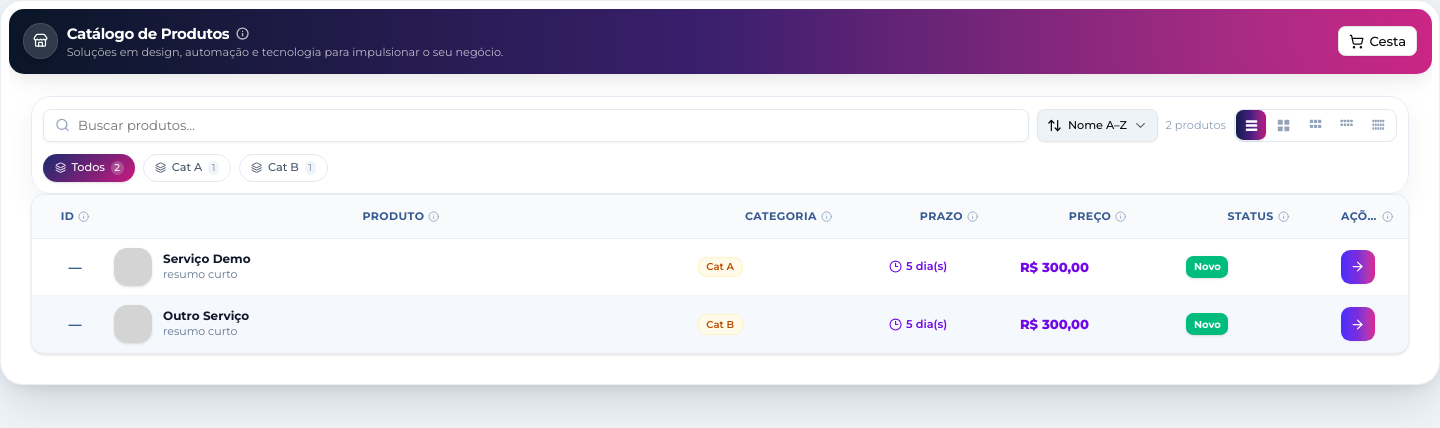
Test: Catálogo do cliente › filtros: pilar do endereço vai ao backend; abas de categoria filtram a lista e 'Todos' volta tudo
Check: the text "Serviço Demo" is shown, box [163, 251, 251, 266]
Step 1. Click the button "Cat B 1" → (283, 168), box [239, 154, 328, 182]
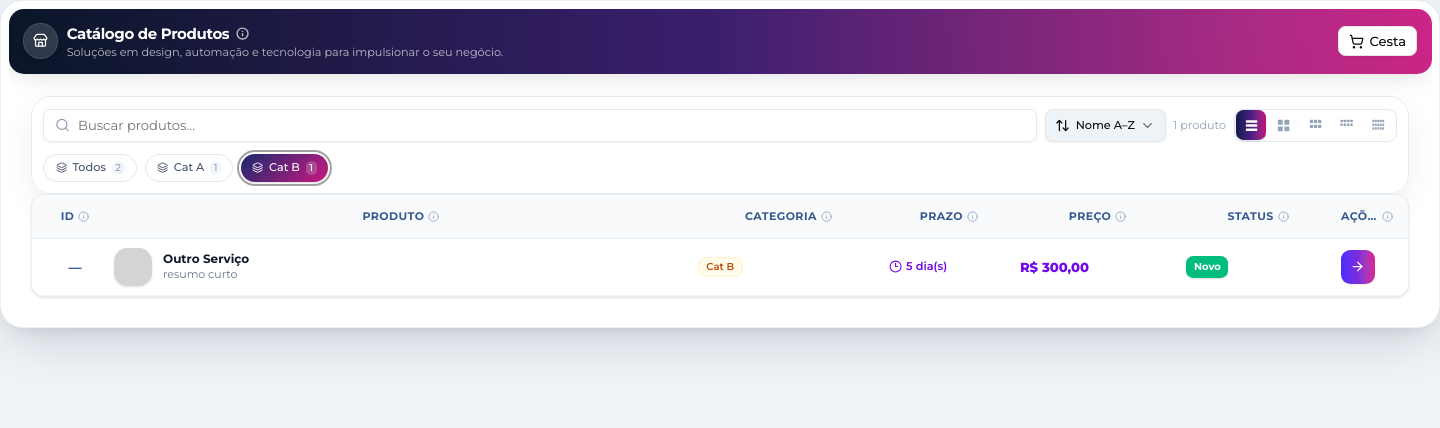
Check: the text "Outro Serviço" is shown, box [163, 251, 249, 266]
Check: the button "Serviço Demo" is gone
Step 2. Click the button "Todos 2" → (90, 168), box [43, 154, 137, 182]
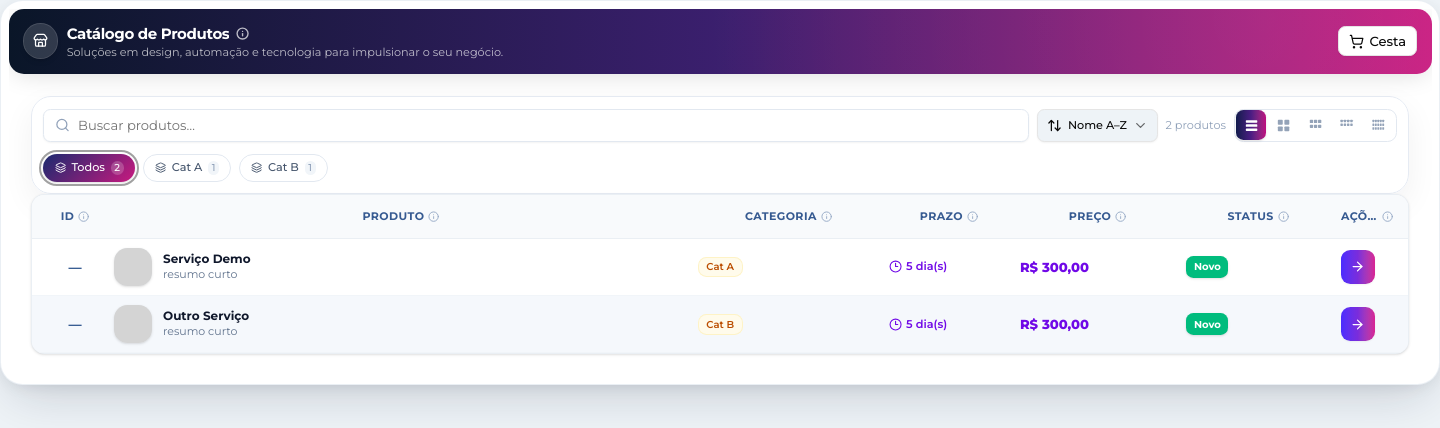
Check: the text "Outro Serviço" is shown, box [163, 308, 249, 323]
Check: the text "Serviço Demo" is shown, box [163, 251, 251, 266]
